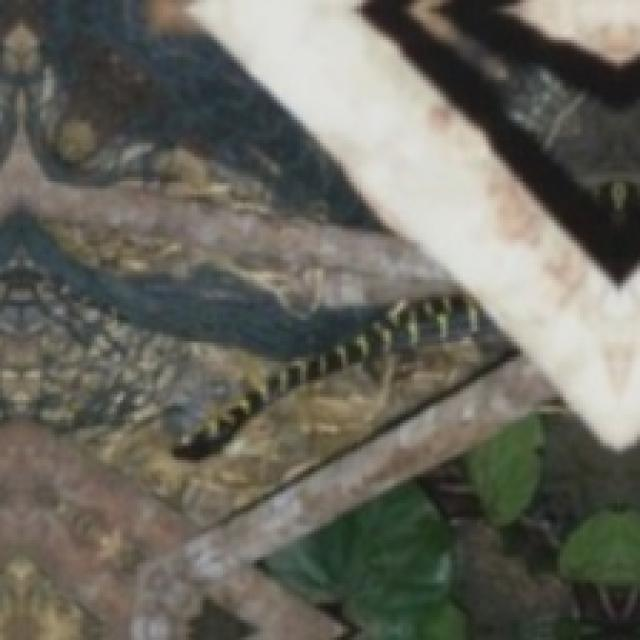mangrove cat snake: (171, 294, 477, 457)
